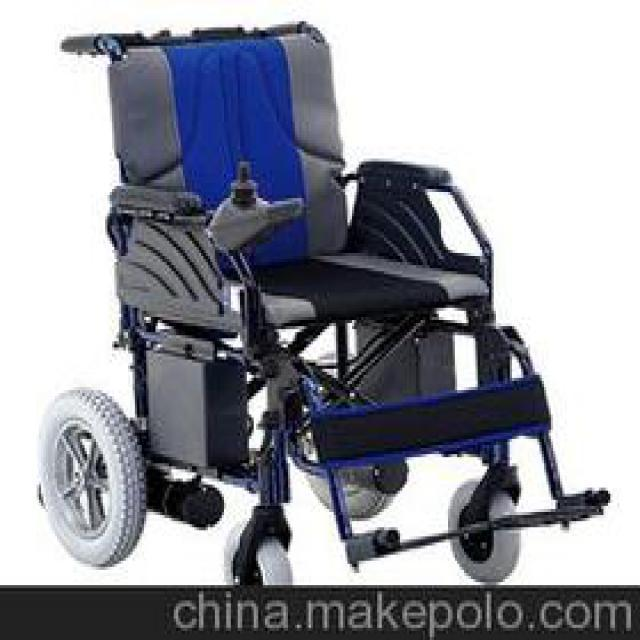wheelchairs: (45, 18, 607, 584)
